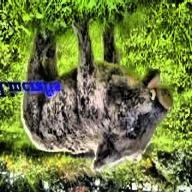boar: (22, 32, 187, 169)
